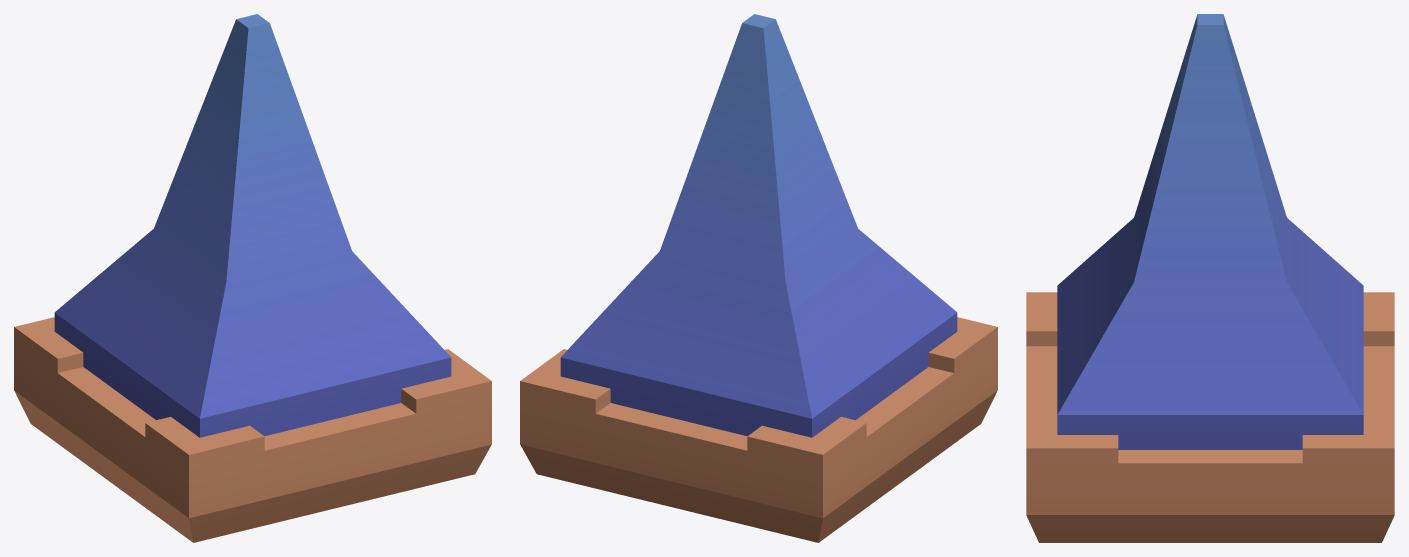
The model's file is tower-square-top-roof-high.glb.
The picture shows the model from 3 angles, left to right: view 1: azimuth 30°, elevation 25°; view 2: azimuth 150°, elevation 25°; view 3: azimuth 270°, elevation 25°; orthographic projection. The views are drawn at different scales.
Parts seen in each view (by area): view 1: tower-square-top-roof-high; view 2: tower-square-top-roof-high; view 3: tower-square-top-roof-high.
Part boxes in pixels (<box>): tower-square-top-roof-high: <box>14,14,491,542</box>; tower-square-top-roof-high: <box>520,14,997,542</box>; tower-square-top-roof-high: <box>1026,14,1394,542</box>.
Bounding box in the file's own units: 0.9999 × 1.35 × 0.9999.
Materials: 1 (1 with a texture image).
